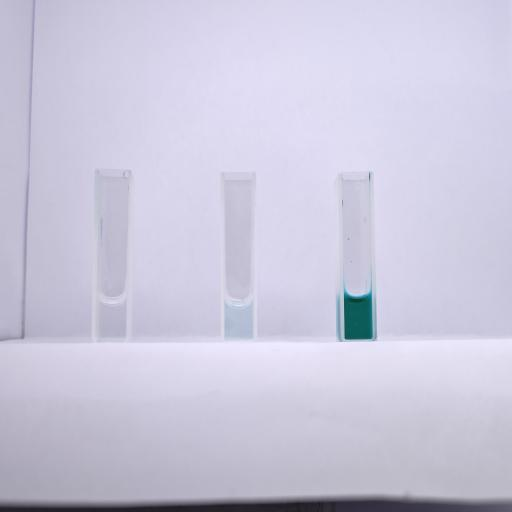cuvette: (90, 165, 134, 345), (335, 170, 380, 345), (218, 169, 260, 346)
liquid: (344, 290, 372, 340), (225, 298, 253, 340), (99, 297, 125, 341)
